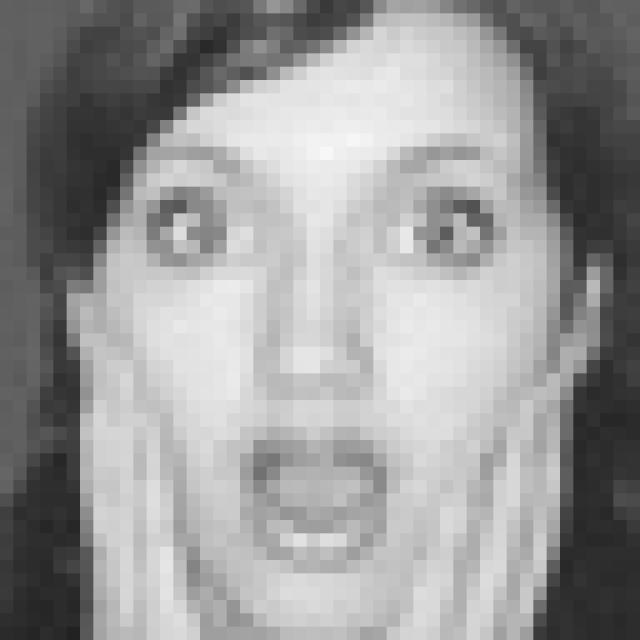surprise: (134, 131, 517, 574)
